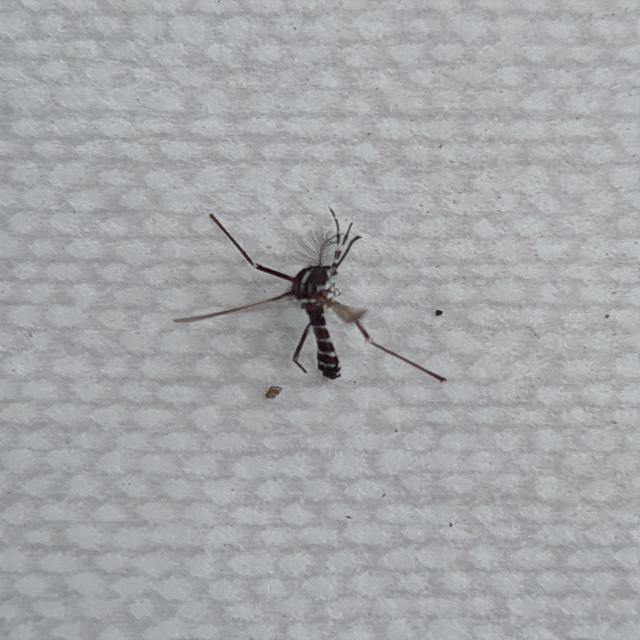albopictus: (175, 192, 448, 394)
